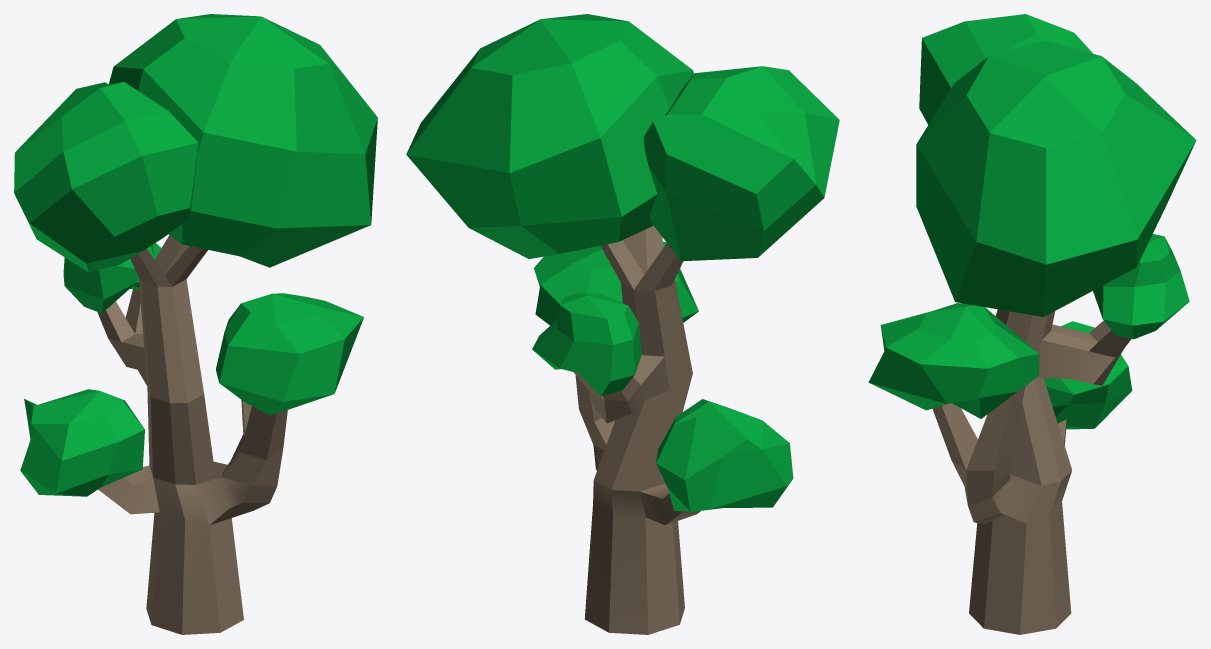
The model's file is Prop_TreeBig_Mod_01.fbx.
3 renders of one model, left to right at view 1: azimuth 30°, elevation 25°; view 2: azimuth 150°, elevation 25°; view 3: azimuth 270°, elevation 25°, orthographic. The views are drawn at different scales.
Visible parts, largest first — view 1: Tree; view 2: Tree; view 3: Tree.
Boxes of the visible parts, x1=… form: Tree: x1=14, y1=14, x2=377, y2=634; Tree: x1=406, y1=14, x2=839, y2=634; Tree: x1=868, y1=14, x2=1196, y2=634.
Bounding box in the file's own units: 10.89 × 15.82 × 8.16.
